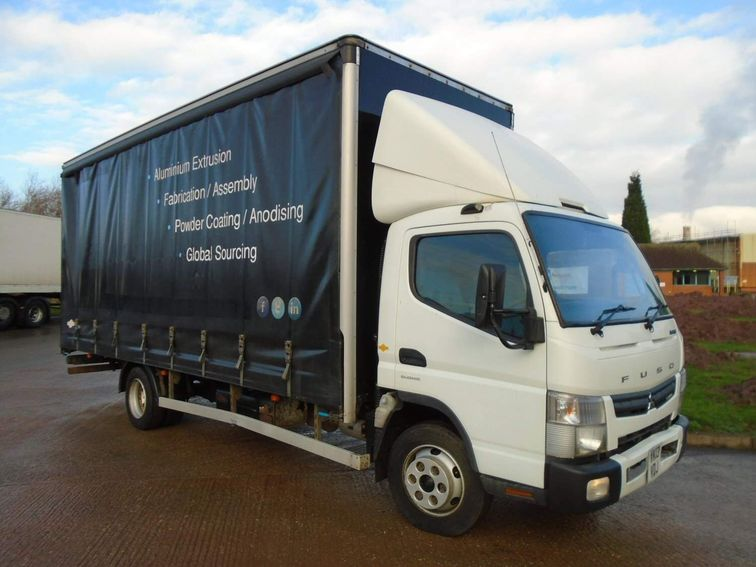Semi: (59, 34, 690, 538)
